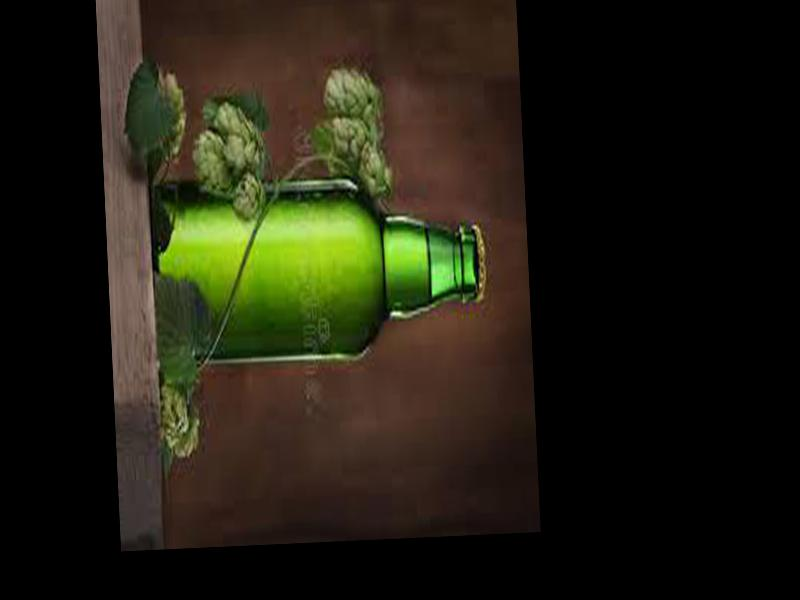Beer: (143, 176, 490, 369)
